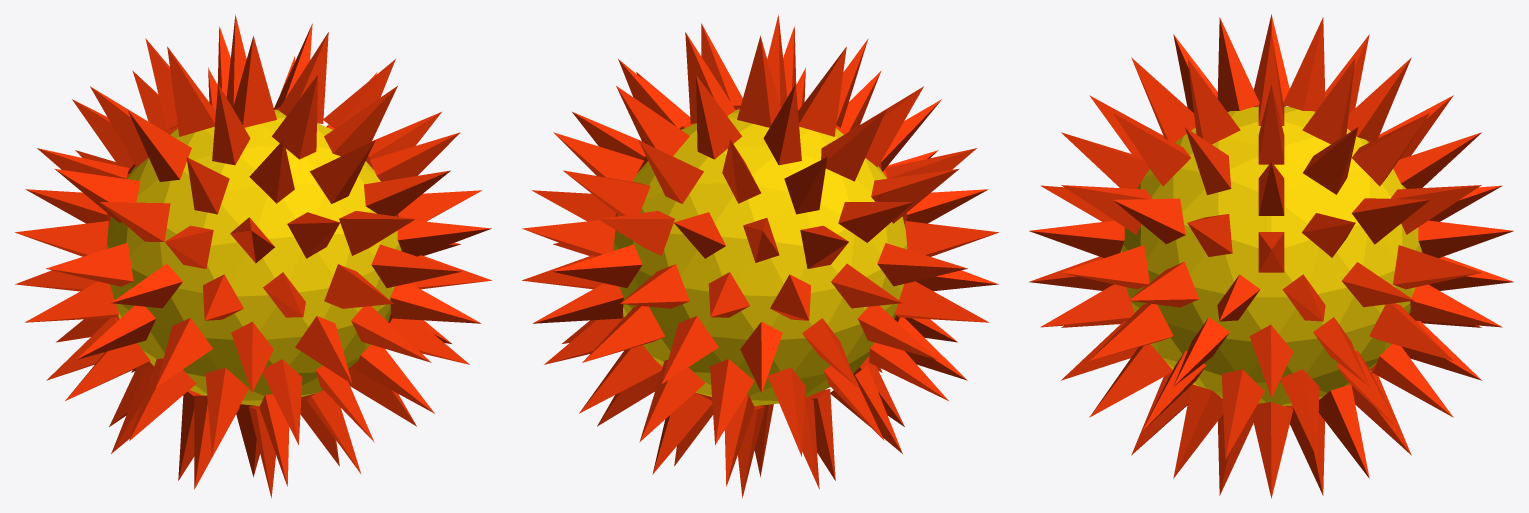
File: SpikySun.FBX
3 renders of one model, left to right at view 1: azimuth 30°, elevation 25°; view 2: azimuth 150°, elevation 25°; view 3: azimuth 270°, elevation 25°, orthographic.
Parts seen in each view (by area): view 1: Pyramid001; view 2: Pyramid001; view 3: Pyramid001.
Boxes of the visible parts, x1=… form: Pyramid001: x1=15, y1=14, x2=491, y2=498; Pyramid001: x1=522, y1=14, x2=998, y2=498; Pyramid001: x1=1029, y1=14, x2=1513, y2=498.
Bounding box in the file's own units: 137 × 139 × 136.
